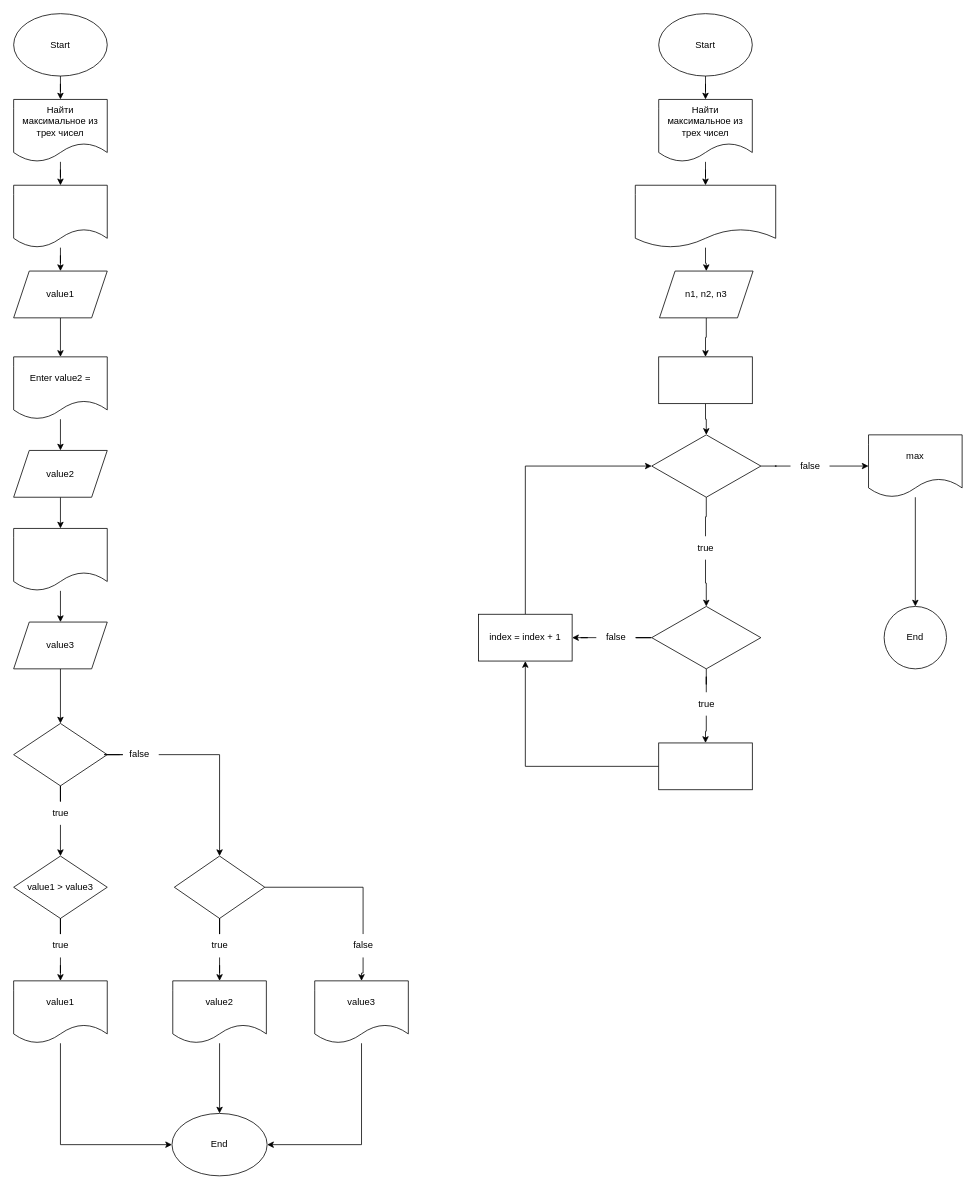
The diagram is 976 pixels wide and 1190 high, and some of its shapes have lost their labels. Here are the shapes that lost their labels. From the top down, the centre of each, then its label:
At point (60, 216): "Enter value1 =".
At point (705, 216): "Enter numbers[n1, n2, n3]".
At point (705, 380): "size = 3 index = 0 max = numbers[0]".
At point (706, 465): "index < max?".
At point (60, 559): "Enter value3 =".
At point (706, 637): "number[index] > max".
At point (60, 754): "value1 > value2".
At point (705, 766): "max = numbex[index]".
At point (219, 886): "value2 > vaslue3".
